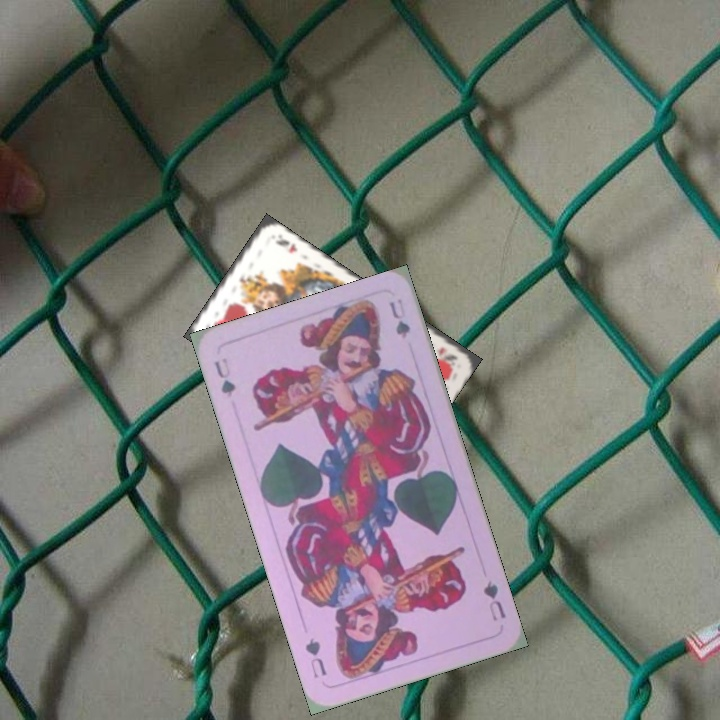GU: (479, 577, 509, 624), (210, 353, 238, 400)
HK: (434, 342, 460, 364)
